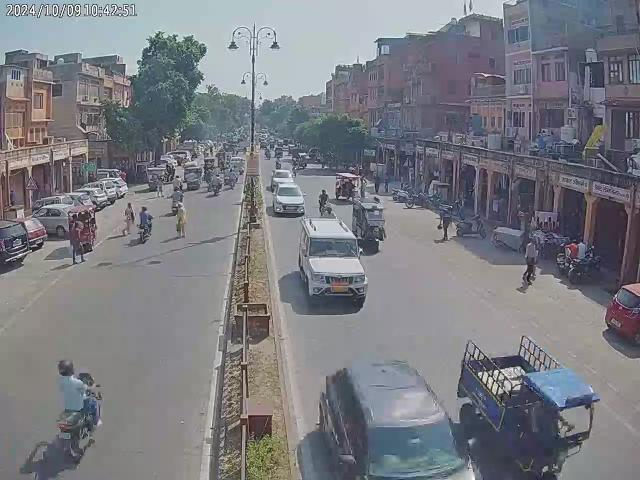auto: (351, 197, 386, 252), (68, 203, 98, 252), (334, 171, 362, 201), (183, 163, 203, 191), (146, 165, 164, 192)
car: (318, 360, 478, 480), (297, 215, 367, 311), (604, 274, 640, 350), (0, 218, 32, 272), (30, 204, 72, 236), (14, 216, 49, 250), (272, 182, 306, 216), (438, 206, 452, 241)
helmet: (56, 360, 76, 378)
lorry: (459, 336, 602, 480)
motorbike: (567, 255, 602, 285), (397, 188, 428, 211), (317, 193, 333, 217), (206, 178, 222, 198)
motorbike-rider: (52, 358, 106, 468), (135, 205, 155, 245), (170, 186, 184, 214)
person: (522, 241, 539, 286), (72, 222, 86, 266), (174, 201, 187, 239)
